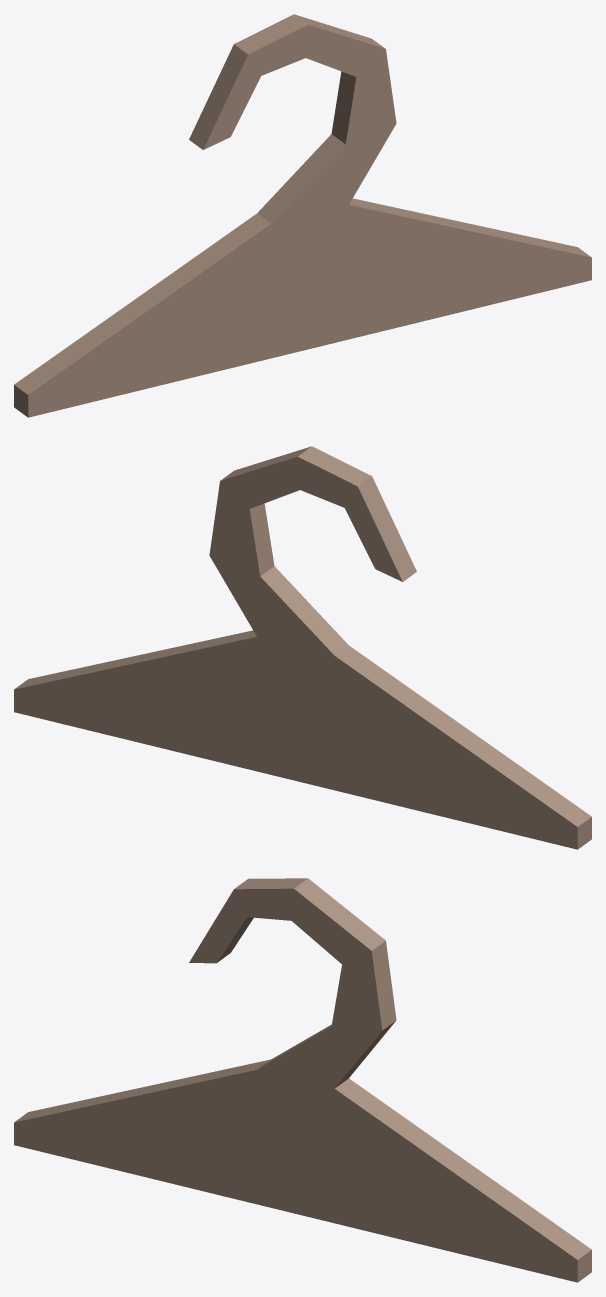
Rendered from hang.fbx.
3 views of the same model, one above another, from view 1: azimuth 30°, elevation 25°; view 2: azimuth 150°, elevation 25°; view 3: azimuth 330°, elevation 25° (orthographic).
Parts seen in each view (by area): view 1: Plane.278; view 2: Plane.278; view 3: Plane.278.
Part boxes in pixels (<box>): Plane.278: <box>14,14,591,417</box>; Plane.278: <box>14,446,591,849</box>; Plane.278: <box>14,878,591,1282</box>.
Size of the model in its own units: 23.65 by 13.02 by 1.03.
1 material, 1 textured.
